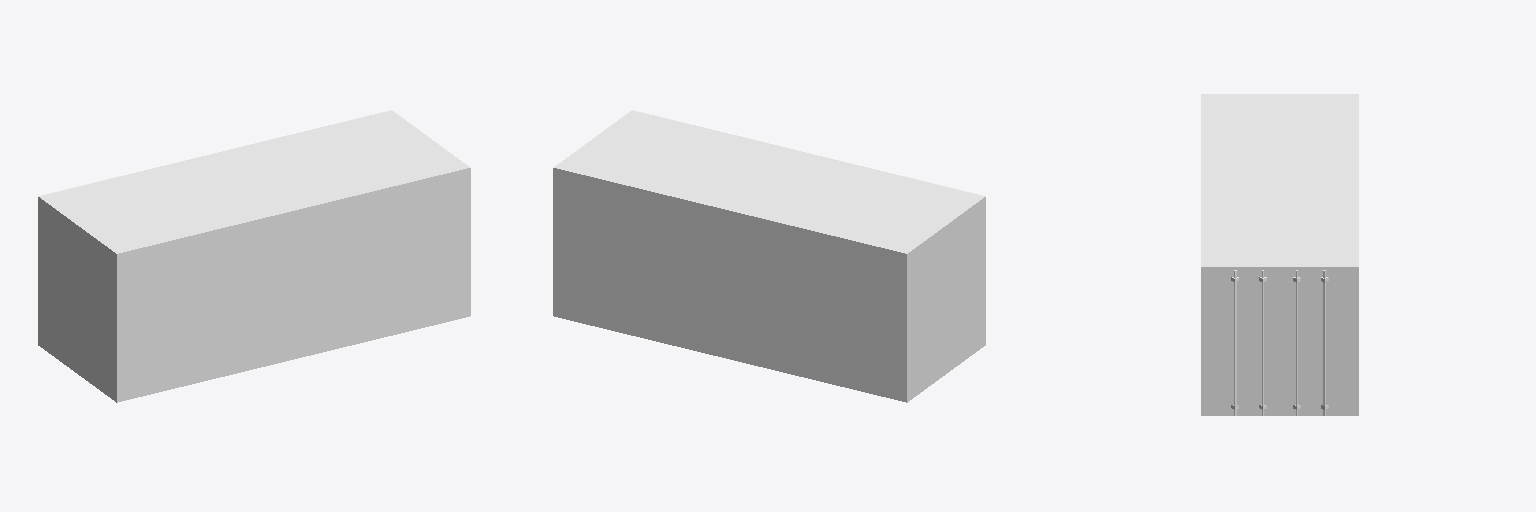
File: container2.obj
3 views of the same model, side by side, from view 1: azimuth 30°, elevation 25°; view 2: azimuth 150°, elevation 25°; view 3: azimuth 270°, elevation 25° (orthographic).
Parts seen in each view (by area): view 1: ContainerBlue1; view 2: ContainerBlue1; view 3: ContainerBlue1.
Part boxes in pixels (left/top/right/bottom): ContainerBlue1: left=38, top=110, right=470, bottom=402; ContainerBlue1: left=553, top=110, right=985, bottom=402; ContainerBlue1: left=1201, top=94, right=1358, bottom=415.
Size of the model in its own units: 242 by 96.46 by 92.52.